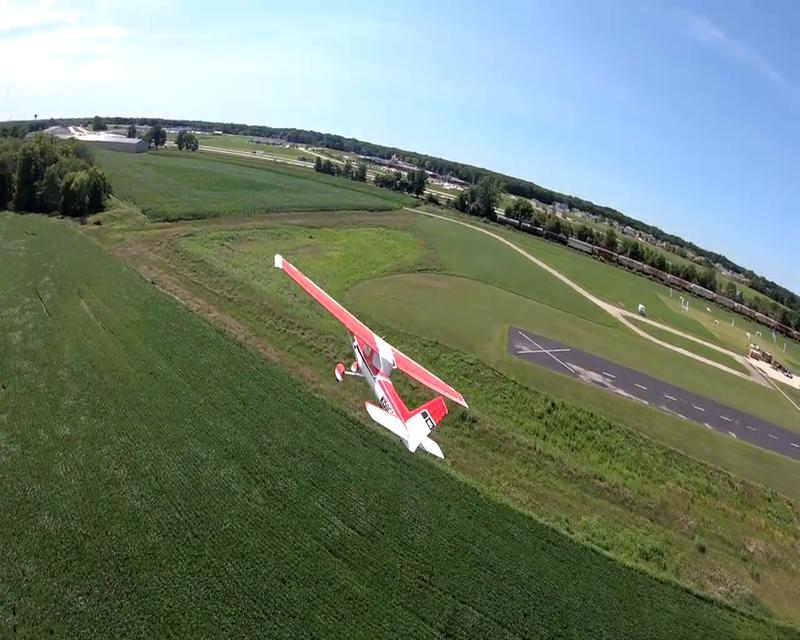UAV: (272, 251, 470, 460)
